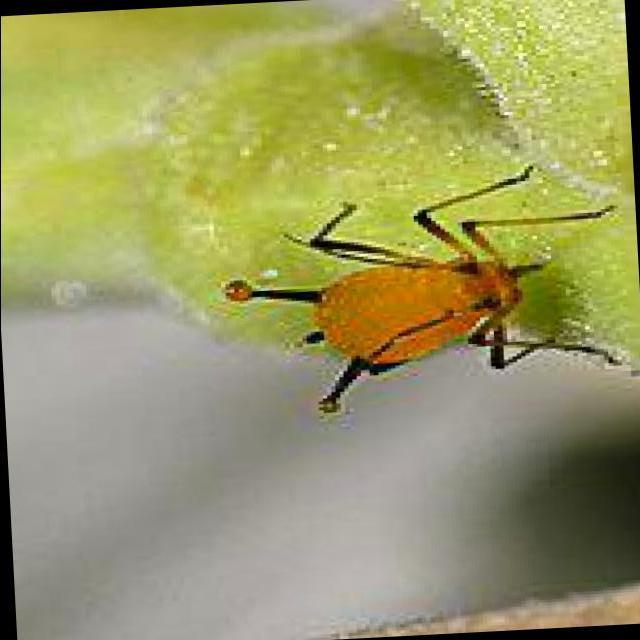aphid: (228, 165, 628, 441)
